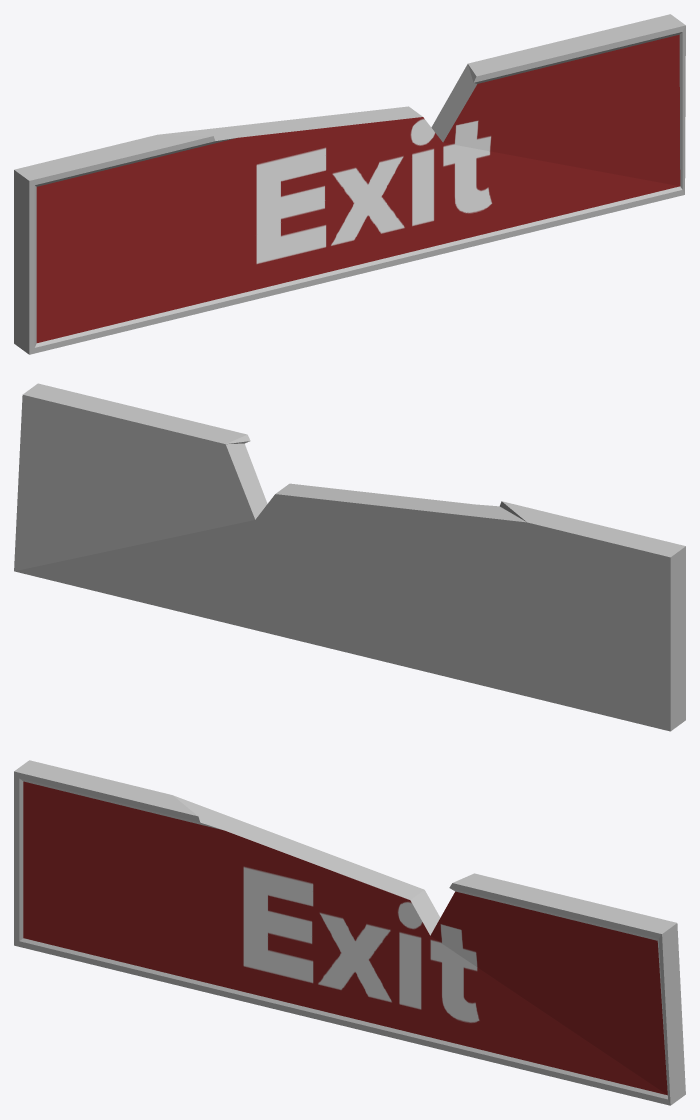
The model's file is SM_Direction_Indicator_03_C.fbx.
3 renders of one model, top to bottom at view 1: azimuth 30°, elevation 25°; view 2: azimuth 150°, elevation 25°; view 3: azimuth 330°, elevation 25°, orthographic.
Visible parts, largest first — view 1: SM_Direction_Indicator_03_C; view 2: SM_Direction_Indicator_03_C; view 3: SM_Direction_Indicator_03_C.
Boxes of the visible parts, box(x1,y1,x2,y2) form: SM_Direction_Indicator_03_C: box(14, 14, 685, 354); SM_Direction_Indicator_03_C: box(14, 383, 685, 731); SM_Direction_Indicator_03_C: box(14, 760, 685, 1105).
Size of the model in its own units: 54.78 by 13.88 by 2.91.
